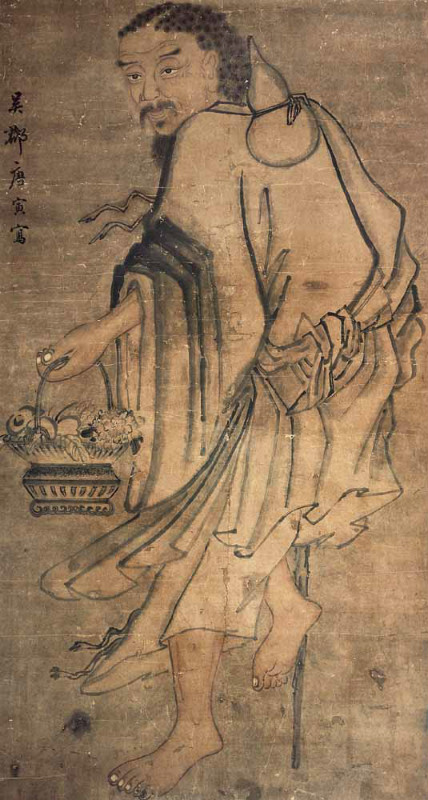decoration: (20, 354, 135, 514), (242, 54, 312, 168)
man: (271, 179, 399, 539), (70, 522, 236, 778), (168, 139, 267, 478), (54, 237, 162, 348), (121, 23, 236, 122), (246, 540, 320, 688), (165, 485, 265, 525), (76, 201, 161, 233), (322, 124, 354, 178)
